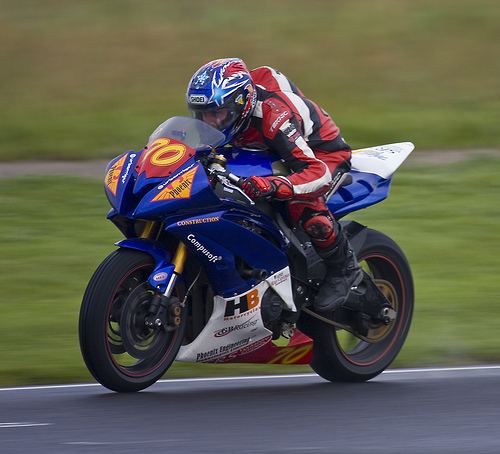helmet: (185, 62, 258, 127)
